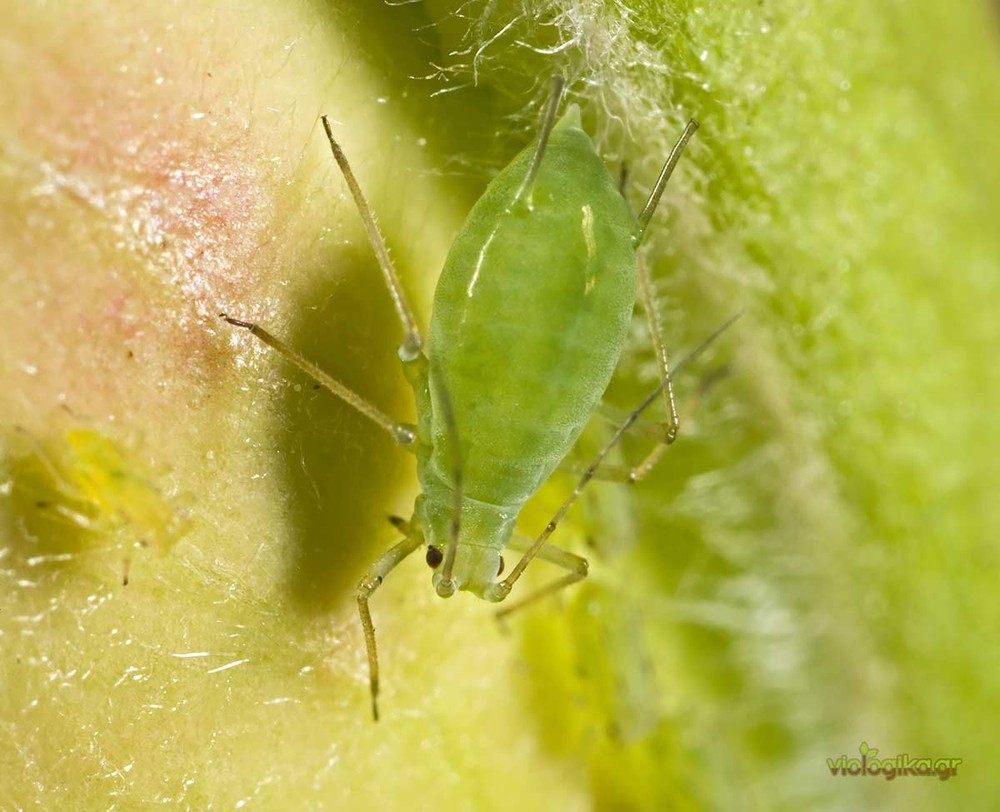Pulgon: (294, 88, 703, 716)
